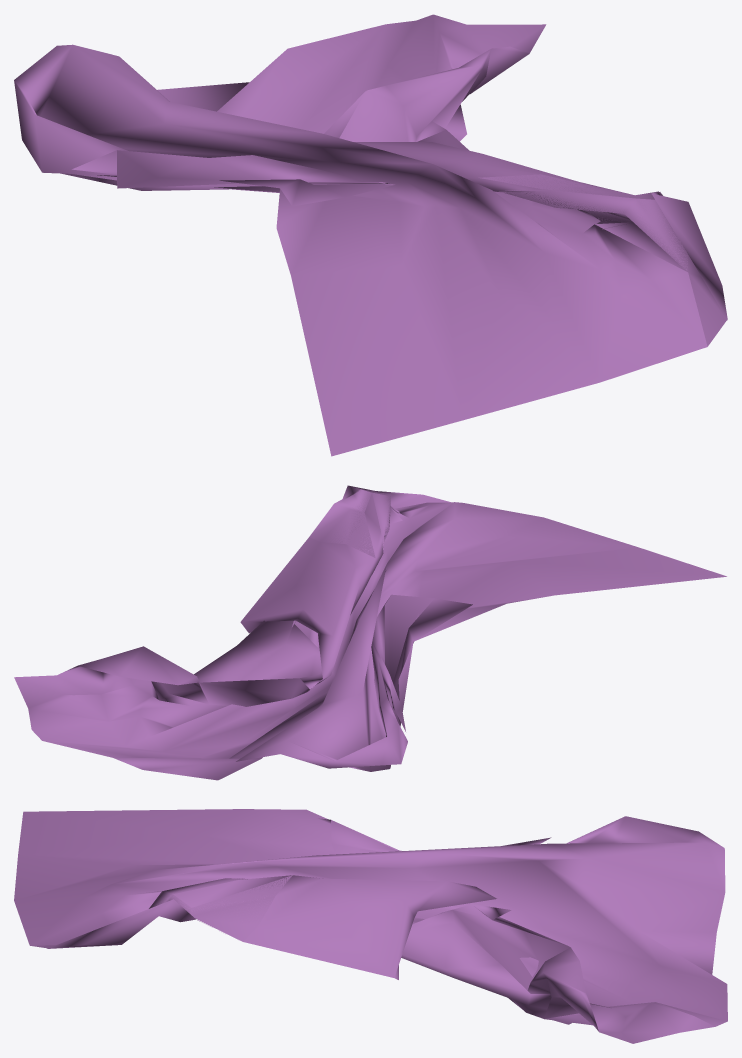
The model's file is Rag.glb.
3 views of the same model, one above another, from view 1: azimuth 30°, elevation 25°; view 2: azimuth 150°, elevation 25°; view 3: azimuth 270°, elevation 25° (orthographic). The views are drawn at different scales.
Parts seen in each view (by area): view 1: cloth_04_MI_Cloth_01_0; view 2: cloth_04_MI_Cloth_01_0; view 3: cloth_04_MI_Cloth_01_0.
Boxes of the visible parts, x1,y1,x2,y2 form: cloth_04_MI_Cloth_01_0: (14,14,727,456); cloth_04_MI_Cloth_01_0: (14,485,726,780); cloth_04_MI_Cloth_01_0: (14,809,727,1043).
Size of the model in its own units: 1.51 by 0.3545 by 1.97.
